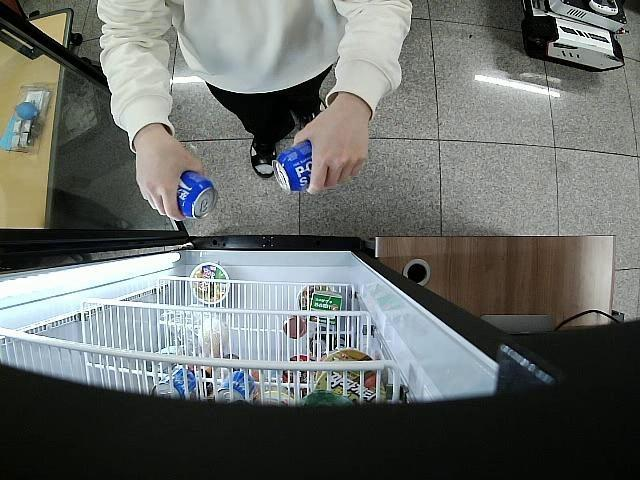13_pocariSweat: (176, 167, 217, 220), (272, 141, 313, 194)
